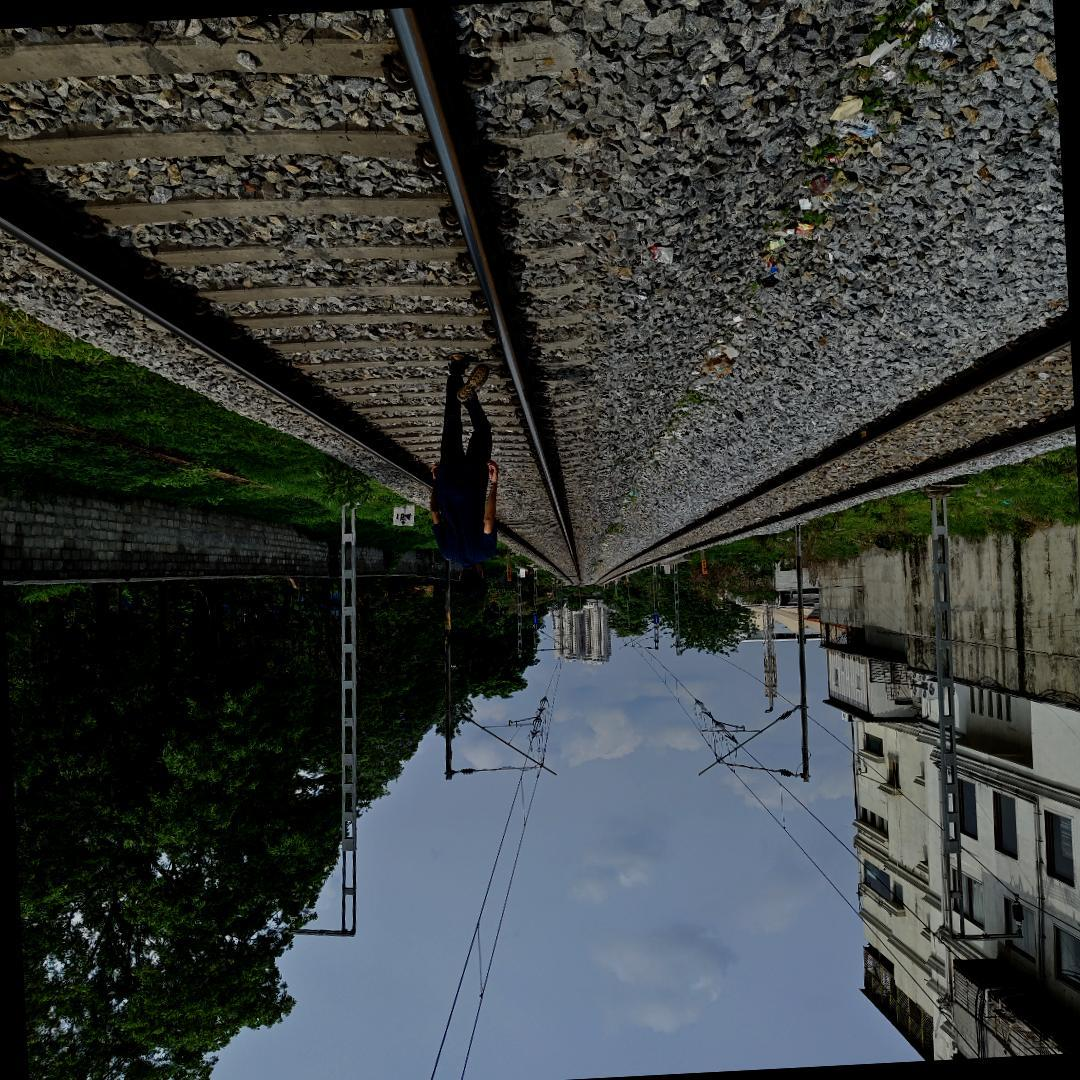standing: (414, 344, 507, 603)
track: (0, 4, 582, 591)
